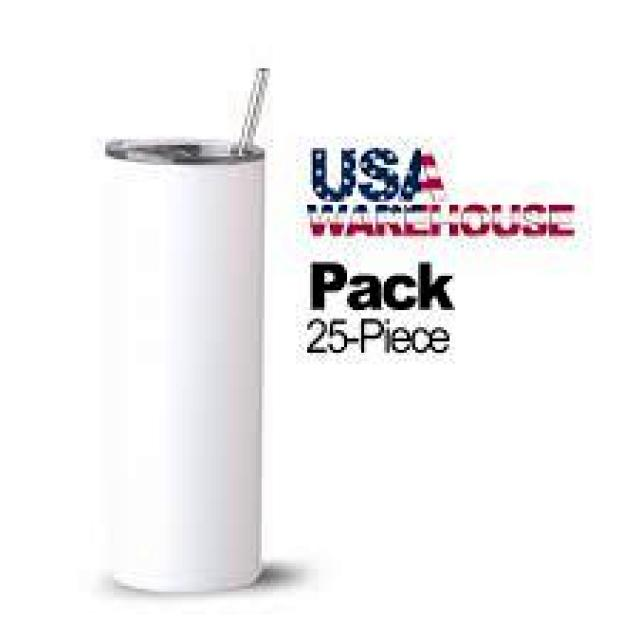bottle: (108, 68, 262, 594)
